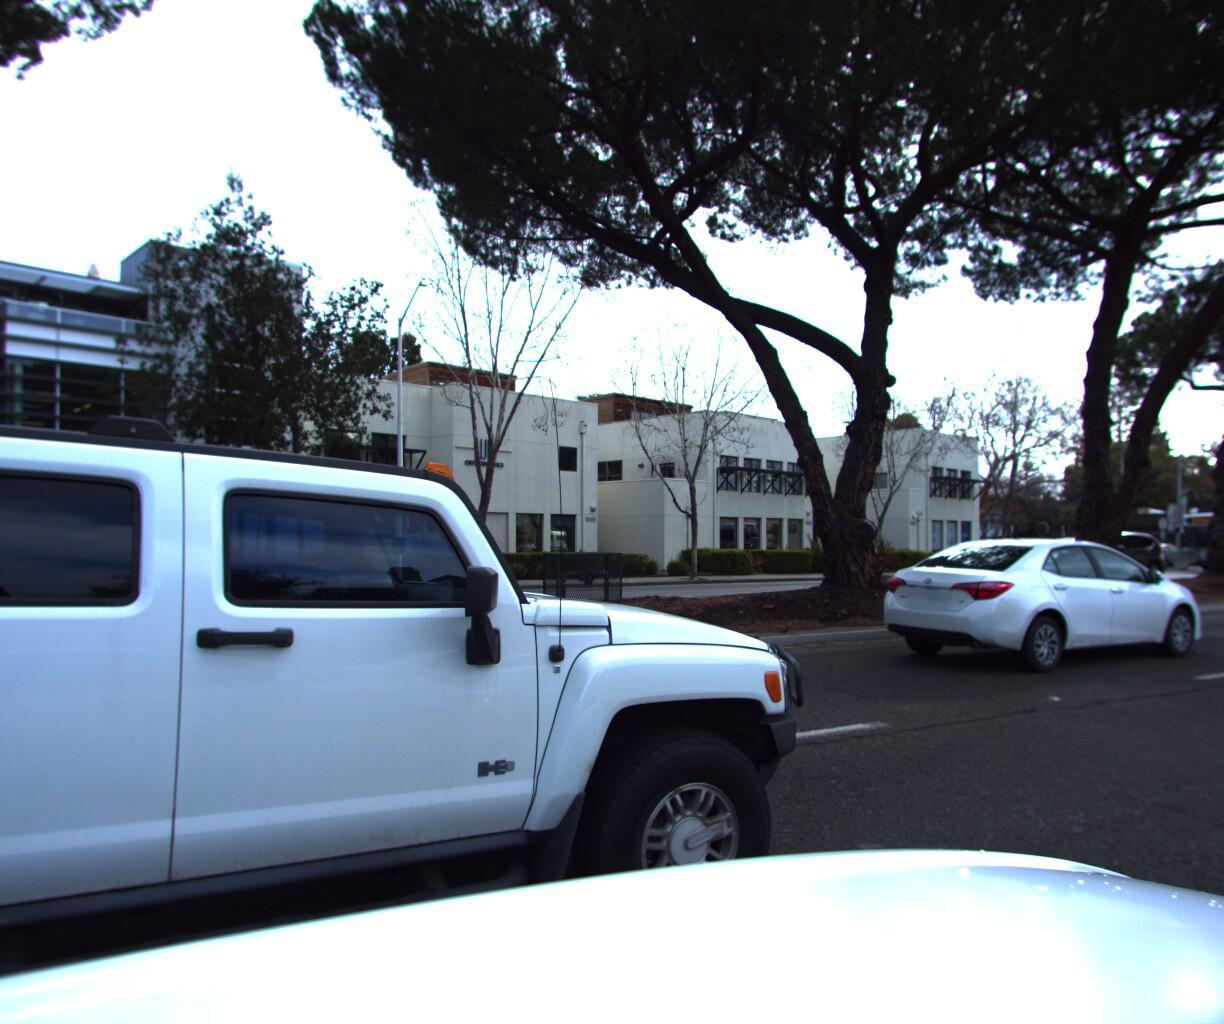bus: (1164, 520, 1224, 583)
car: (0, 208, 856, 1024), (855, 540, 1215, 694), (1024, 537, 1172, 594), (1111, 550, 1191, 583)
